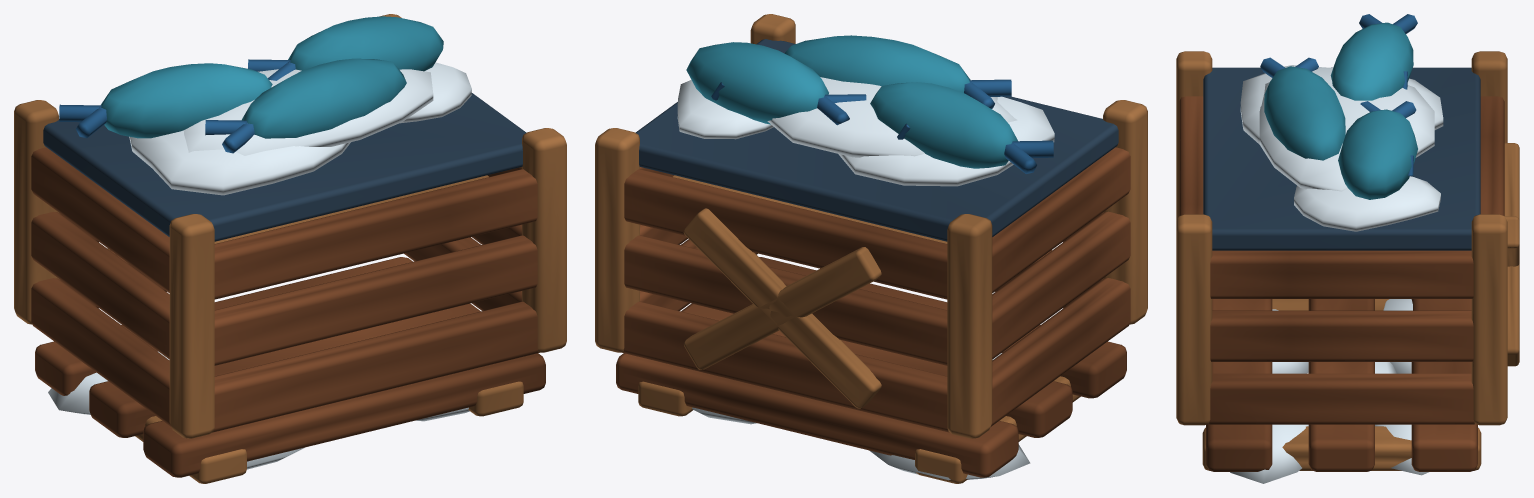
File: fish_crate.glb
The picture shows the model from 3 angles, left to right: view 1: azimuth 30°, elevation 25°; view 2: azimuth 150°, elevation 25°; view 3: azimuth 270°, elevation 25°; orthographic projection. The views are drawn at different scales.
Parts seen in each view (by area): view 1: fish_crate; view 2: fish_crate; view 3: fish_crate.
Part boxes in pixels (bbox=[...]): fish_crate: bbox=[14, 14, 566, 483]; fish_crate: bbox=[595, 14, 1147, 483]; fish_crate: bbox=[1176, 14, 1519, 483].
Size of the model in its own units: 1.44 by 1.2 by 1.14.
